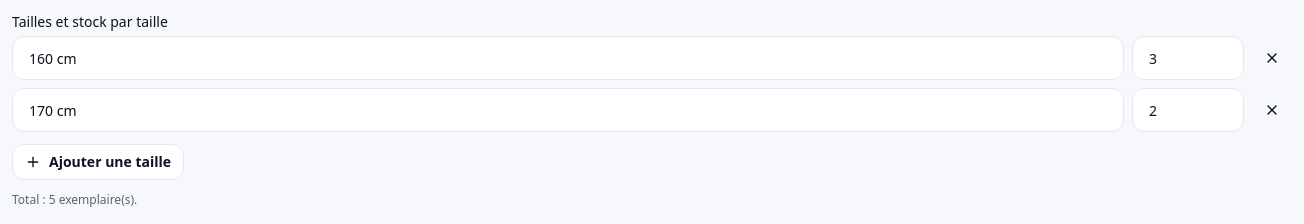
Test: SizesEditor › empêche de retirer la dernière taille
What coordinates should you click on to do the following:
click the button named "Retirer la taille 1"
I would click on:
 (1272, 58)
Its box is [1252, 40, 1292, 76].
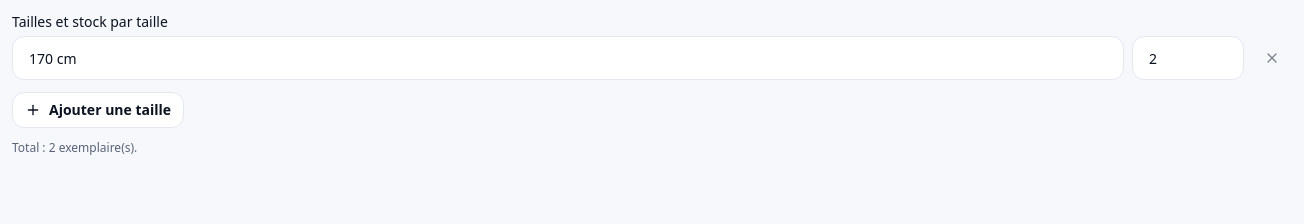
Expected: the field named "Taille 1" holds "170 cm", [12, 36, 1124, 80]
Expected: the button named "Retirer la taille 1" is disabled, [1252, 40, 1292, 76]
